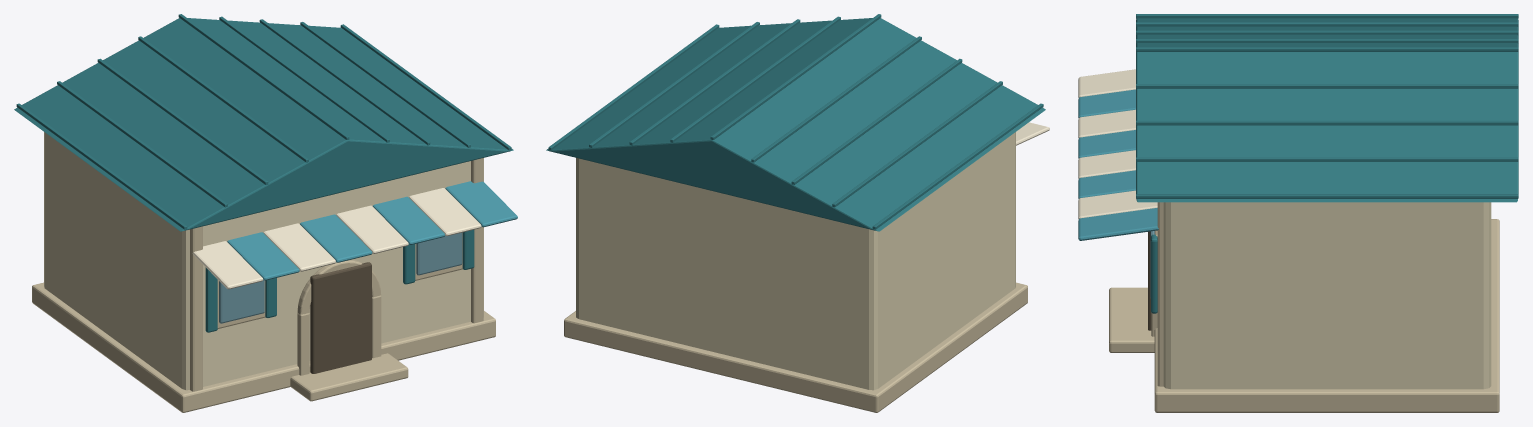
The model's file is shop.glb.
3 renders of one model, left to right at view 1: azimuth 30°, elevation 25°; view 2: azimuth 150°, elevation 25°; view 3: azimuth 270°, elevation 25°, orthographic. The views are drawn at different scales.
Parts seen in each view (by area): view 1: Geometry_TealTile, Geometry_Stucco, Geometry_Sandstone, Geometry_AwningWhite, Geometry_AwningBlue, Geometry_Timber, Geometry_Window; view 2: Geometry_Stucco, Geometry_TealTile, Geometry_Sandstone; view 3: Geometry_TealTile, Geometry_Stucco, Geometry_Sandstone, Geometry_AwningBlue, Geometry_AwningWhite.
Part boxes in pixels (x1,y1,x2,y2): Geometry_TealTile: [14, 14, 513, 332]; Geometry_Stucco: [44, 132, 483, 390]; Geometry_Sandstone: [32, 158, 495, 412]; Geometry_AwningWhite: [192, 188, 481, 289]; Geometry_AwningBlue: [227, 181, 517, 280]; Geometry_Timber: [310, 262, 371, 373]; Geometry_Window: [219, 232, 462, 323]; Geometry_Stucco: [576, 132, 1015, 390]; Geometry_TealTile: [546, 14, 1045, 231]; Geometry_Sandstone: [564, 282, 1027, 412]; Geometry_TealTile: [1136, 14, 1518, 313]; Geometry_Stucco: [1163, 202, 1491, 389]; Geometry_Sandstone: [1109, 202, 1499, 412]; Geometry_AwningBlue: [1078, 89, 1158, 240]; Geometry_AwningWhite: [1078, 69, 1157, 218].
Bounding box in the file's own units: 6.42 × 4.5 × 6.44.
